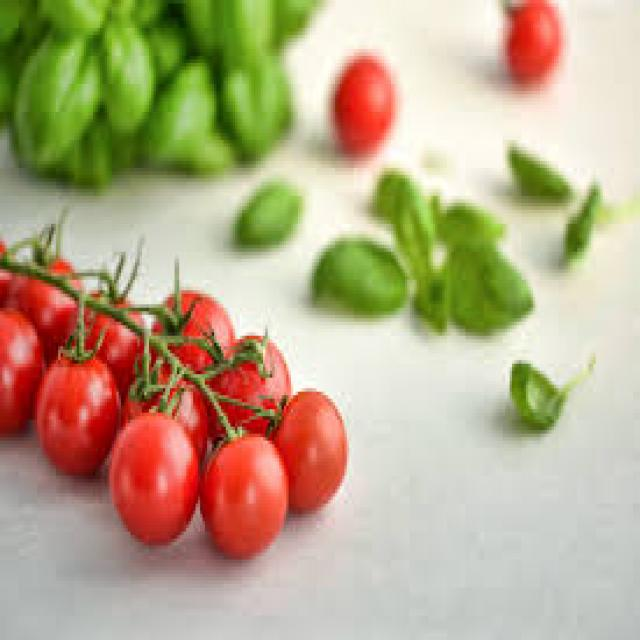tomatoes: (0, 242, 345, 556)
